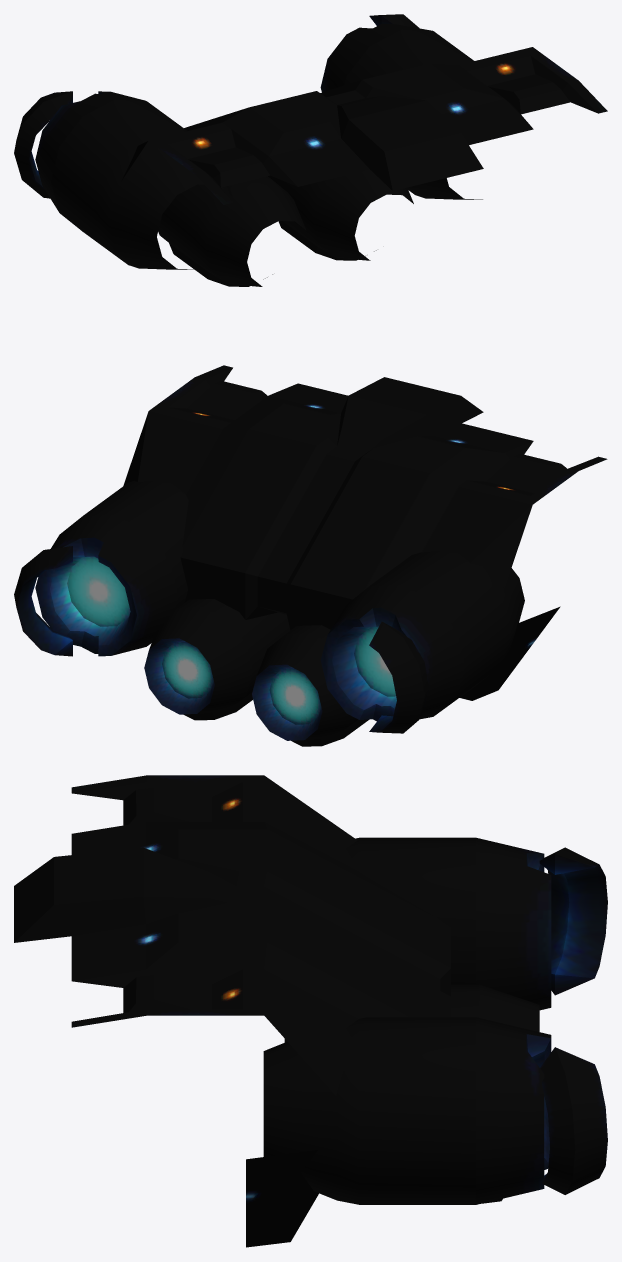
The model's file is engine_hgn_explorer_01_ion_03_t1.glb.
3 renders of one model, top to bottom at view 1: azimuth 30°, elevation 25°; view 2: azimuth 150°, elevation 25°; view 3: azimuth 270°, elevation 25°, orthographic. The views are drawn at different scales.
Parts seen in each view (by area): view 1: ion_engine_t1_m_02_LOD0; view 2: ion_engine_t1_m_02_LOD0; view 3: ion_engine_t1_m_02_LOD0.
Part boxes in pixels (x1,y1,x2,y2): ion_engine_t1_m_02_LOD0: (14,14,607,286); ion_engine_t1_m_02_LOD0: (14,365,607,746); ion_engine_t1_m_02_LOD0: (14,775,607,1247).
Bounding box in the file's own units: 1.99 × 1.01 × 1.88.
1 material, 1 textured.
